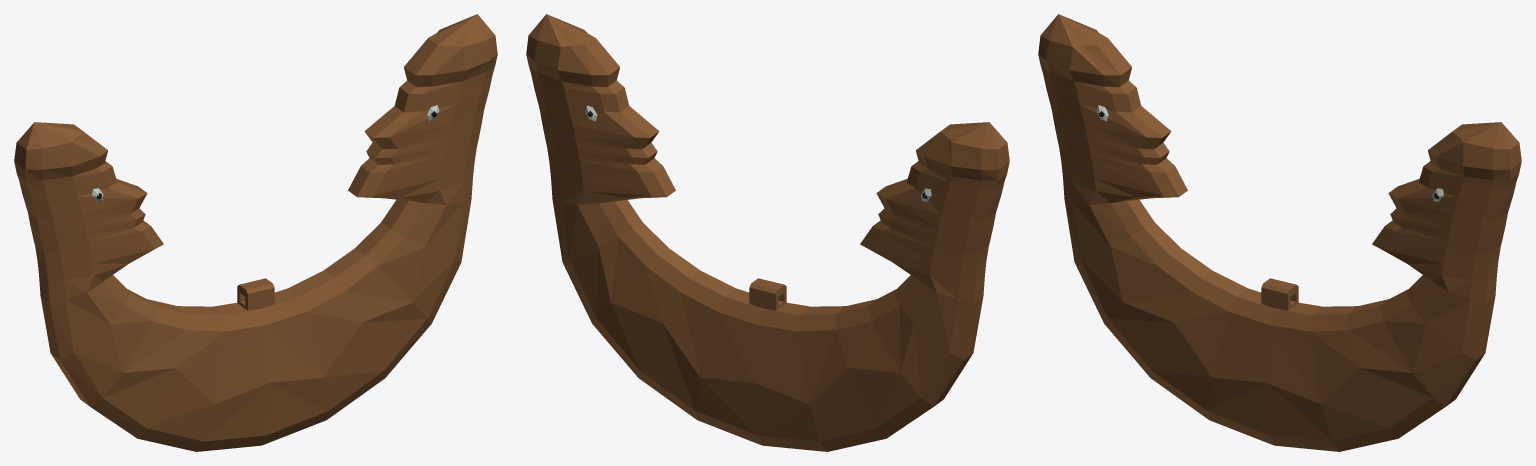
The model's file is reimiro-breast-ornament-86f191.glb.
3 views of the same model, side by side, from view 1: azimuth 30°, elevation 25°; view 2: azimuth 150°, elevation 25°; view 3: azimuth 330°, elevation 25° (orthographic).
Visible parts, largest first — view 1: reimiro-body; view 2: reimiro-body; view 3: reimiro-body.
Part boxes in pixels (x1,y1,x2,y2): reimiro-body: (14,14,497,451); reimiro-body: (526,14,1009,451); reimiro-body: (1038,14,1521,451).
Bounding box in the file's own units: 0.6 × 0.4534 × 0.06.
